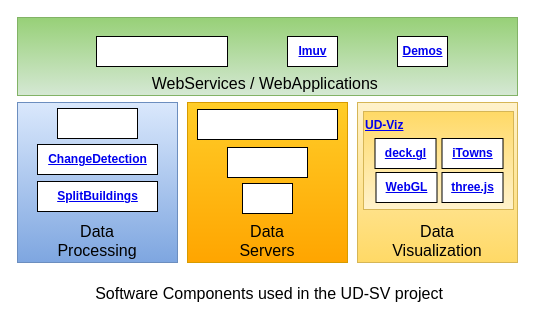
This 535x326 diagram has some shape labels left out. The centre of each missing label's shape, as x and y in pixels:
"3DCityDB" goes at [267,162].
"CityGMLto3DTiles" goes at [162,51].
"nginx" goes at [267,198].
"Py3DTilers" goes at [97,123].
"Spatial-Multimedia-DB" goes at [267,124].
